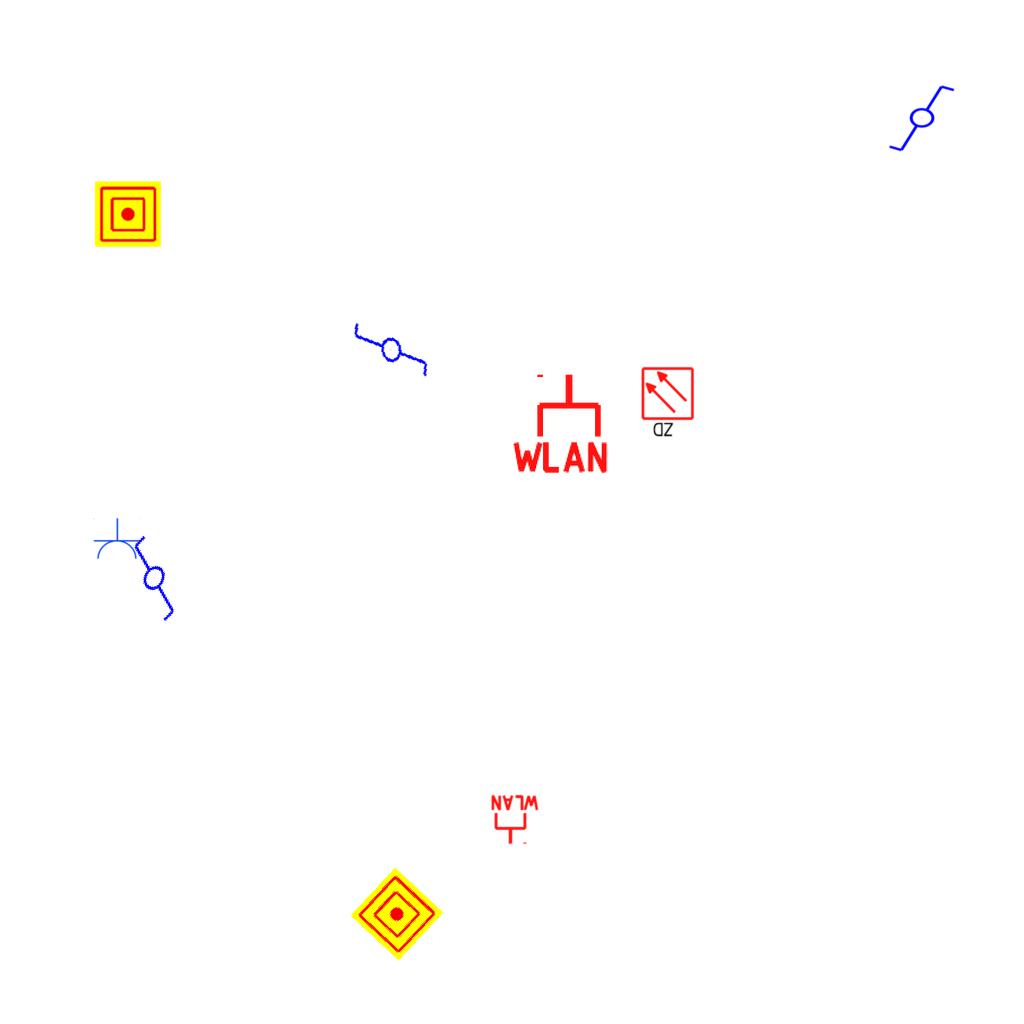NAM-Nichtautomatischer_Melder: (350, 867, 444, 961), (95, 181, 161, 247)
Schukosteckdose_einfach: (92, 518, 142, 561)
WLAN: (508, 370, 612, 475), (489, 794, 541, 846)
Wechselschalter: (106, 523, 208, 627), (348, 308, 434, 400), (887, 83, 965, 155)
ZD_Melder_in_Zwischendecke_mit_Revisionsoeffnung_mind_40_x_40_cm: (640, 366, 697, 440)
